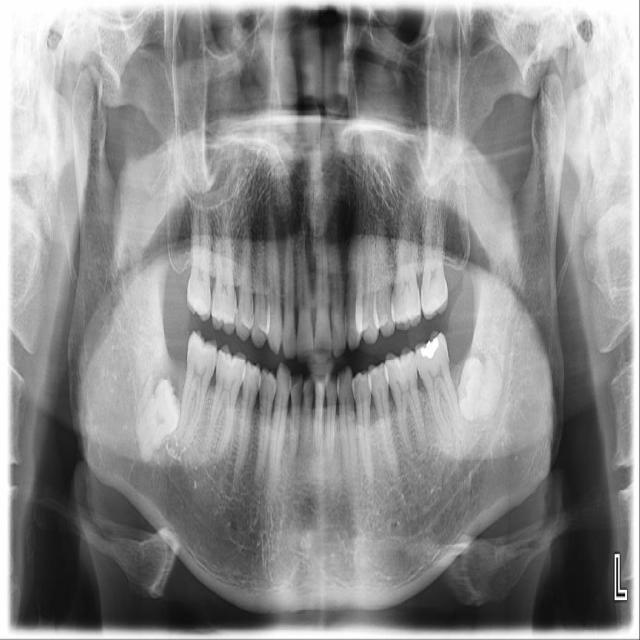52: (409, 326, 457, 388)
73: (626, 609, 630, 625)
BioHorizons Implant: (419, 184, 454, 322)
Biomet 3i Implant: (450, 353, 508, 428)
Blue Sky Bio Implant: (410, 328, 466, 446)
Caries: (183, 191, 212, 321)
Implant: (176, 329, 221, 442)
Keystone Dental Implant: (119, 375, 196, 469)
